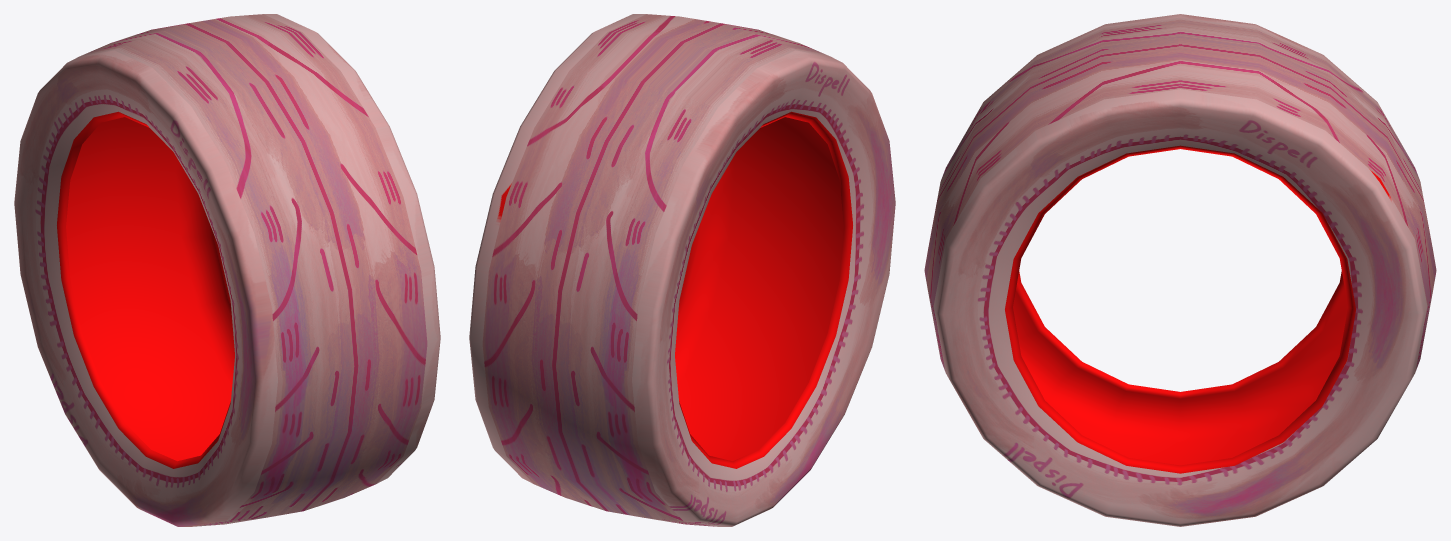
File: wheel_pink.fbx
3 renders of one model, left to right at view 1: azimuth 30°, elevation 25°; view 2: azimuth 150°, elevation 25°; view 3: azimuth 270°, elevation 25°, orthographic.
Parts seen in each view (by area): view 1: wheel_pink; view 2: wheel_pink; view 3: wheel_pink.
Boxes of the visible parts, x1,y1,x2,y2 form: wheel_pink: [14, 14, 440, 526]; wheel_pink: [469, 14, 895, 526]; wheel_pink: [924, 14, 1436, 526].
Bounding box in the file's own units: 0.4002 × 0.9448 × 0.9734.
